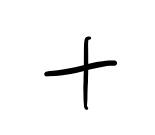plus: (45, 36, 117, 110)
